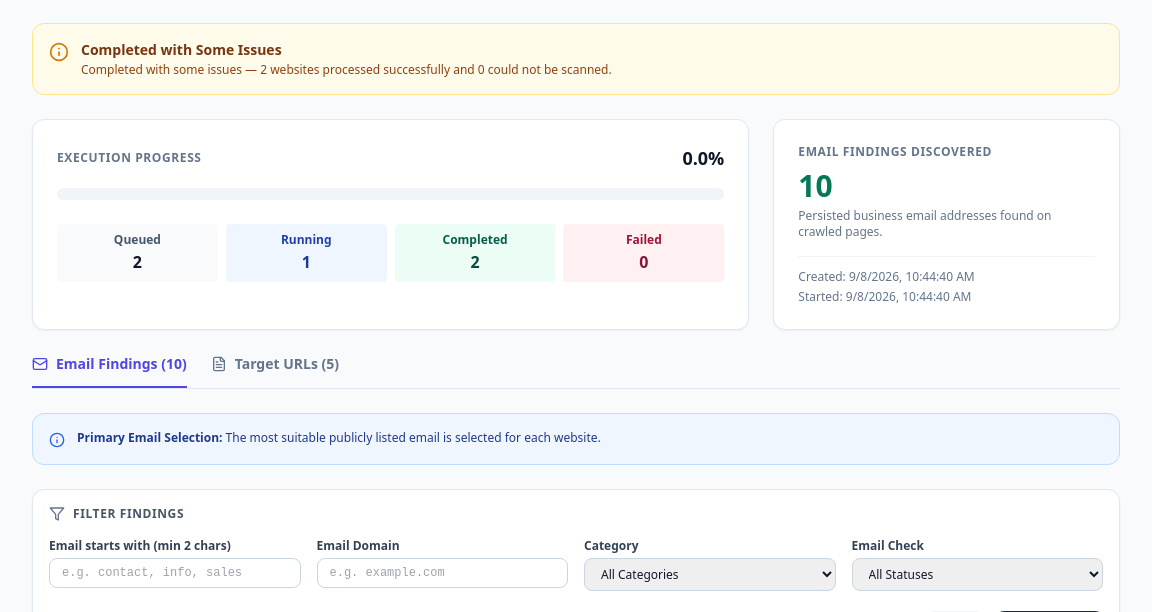
Test: JobDetailPage › renders Approve & Retry button ONLY when redirect approval is required and permitted
Check: the text "Target URLs (5)" is shown, box [235,354,339,374]
Click the button "Target URLs (5)".
click(275, 371)  # box [211,354,339,388]
(page scrolled)
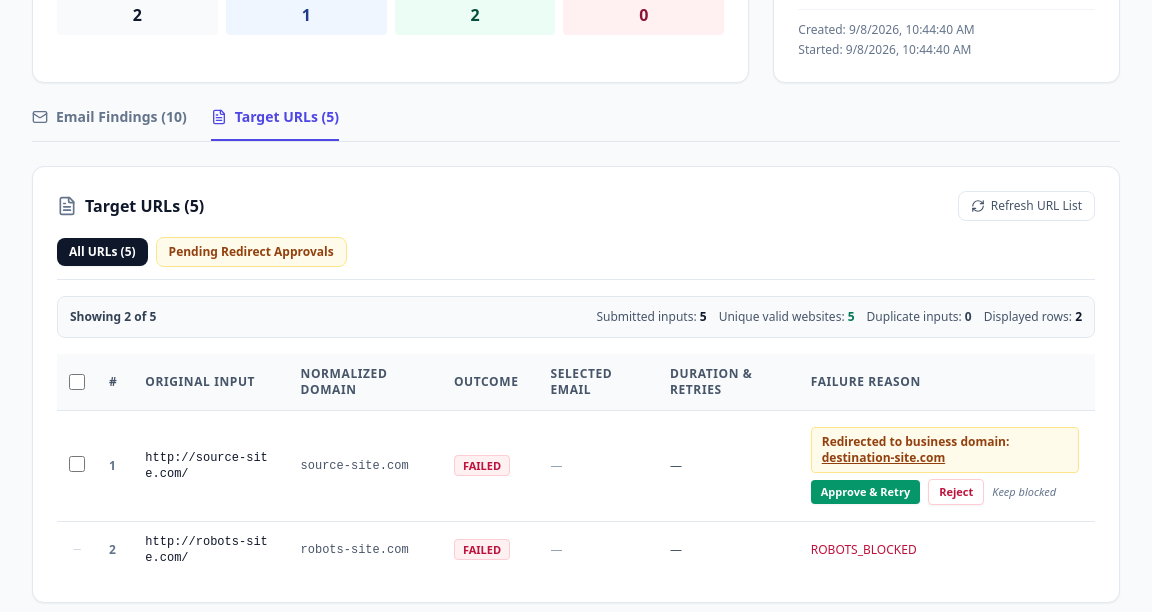
Check: the text "destination-site.com" is shown, box [822,449,945,466]
Check: the button "Approve & Retry" is shown, box [811,480,920,504]
Check: the text "Keep blocked" is shown, box [992,484,1056,500]
